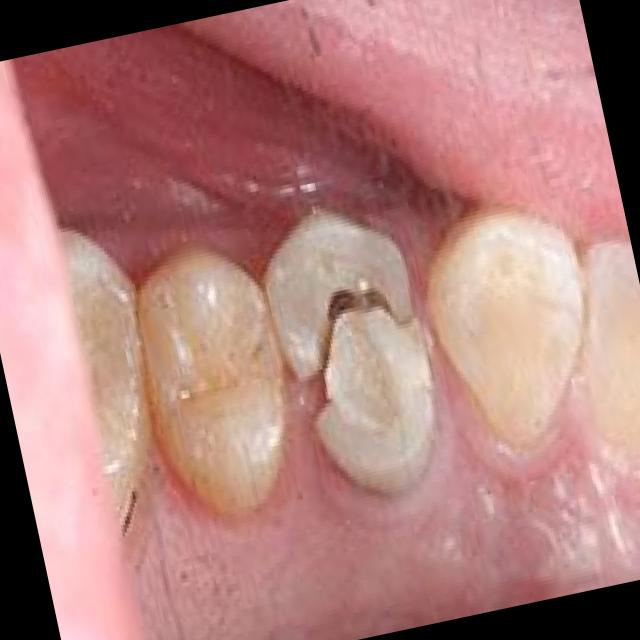Crack: (299, 291, 413, 417)
Tooth: (262, 208, 436, 493), (136, 243, 283, 513), (425, 201, 584, 445)
